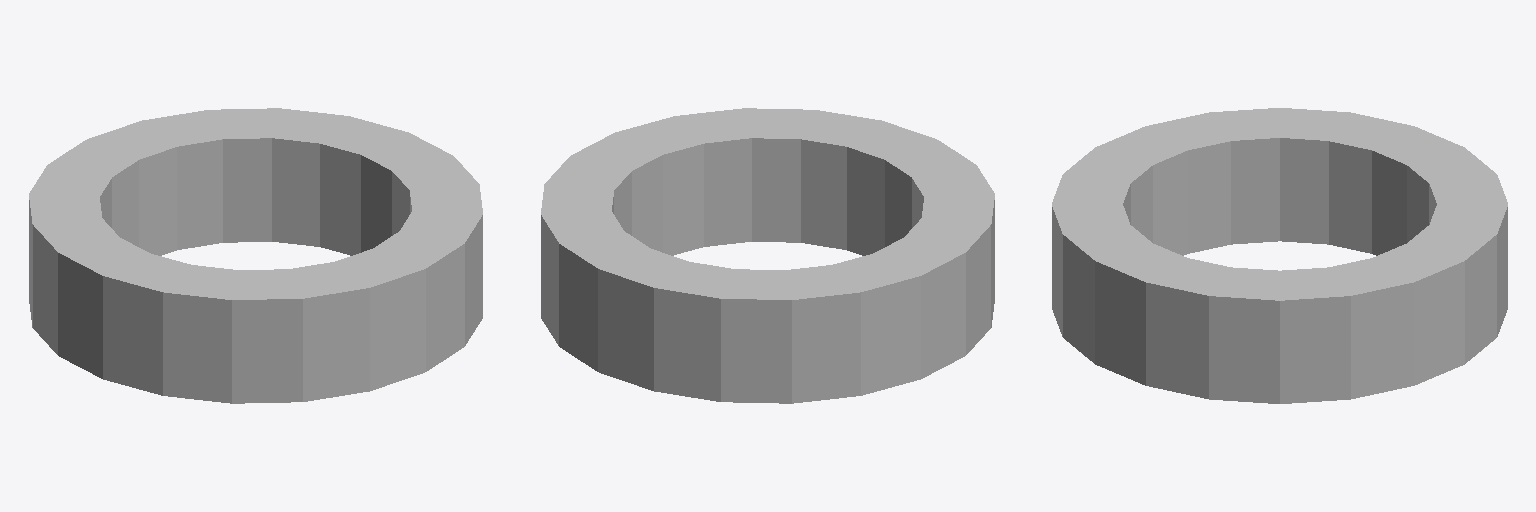
File: CementGrow_05_fromblender.obj
3 views of the same model, side by side, from view 1: azimuth 30°, elevation 25°; view 2: azimuth 150°, elevation 25°; view 3: azimuth 270°, elevation 25° (orthographic).
Visible parts, largest first — view 1: obj_0; view 2: obj_0; view 3: obj_0.
Part boxes in pixels (x1,y1,x2,y2): obj_0: (29, 108, 482, 403); obj_0: (541, 108, 994, 403); obj_0: (1052, 108, 1507, 403).
Size of the model in its own units: 1.1 by 0.2756 by 1.1.